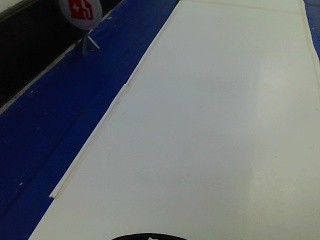battery: (56, 0, 102, 28)
